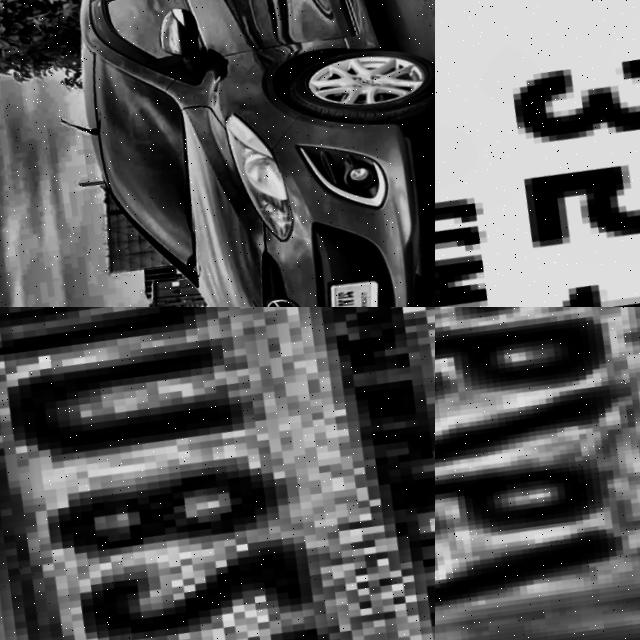license-plate: (0, 307, 435, 640), (435, 307, 640, 640), (435, 0, 640, 307), (322, 262, 403, 307)
